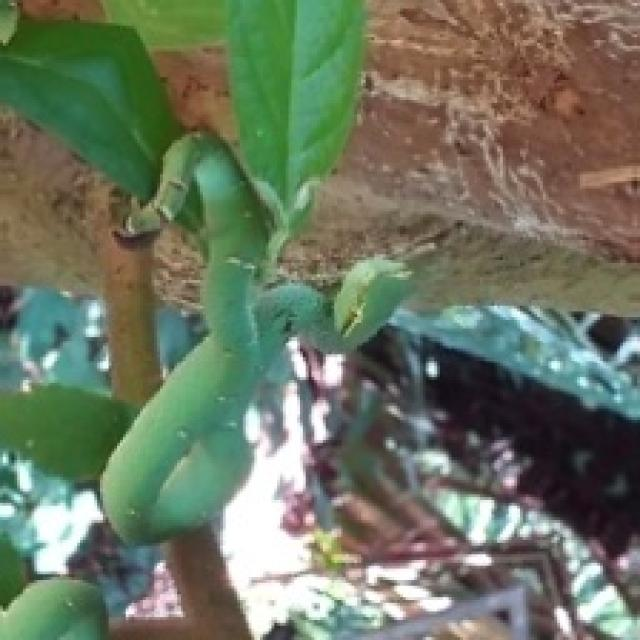north ph temple pitviper: (100, 134, 403, 540)
